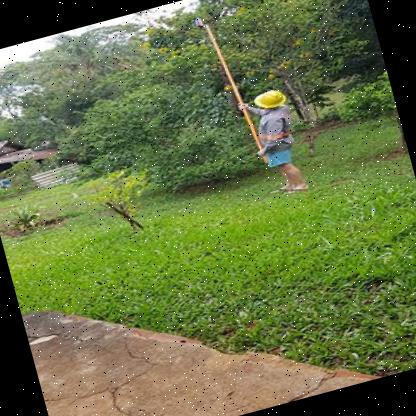capacete: (251, 86, 288, 114)
